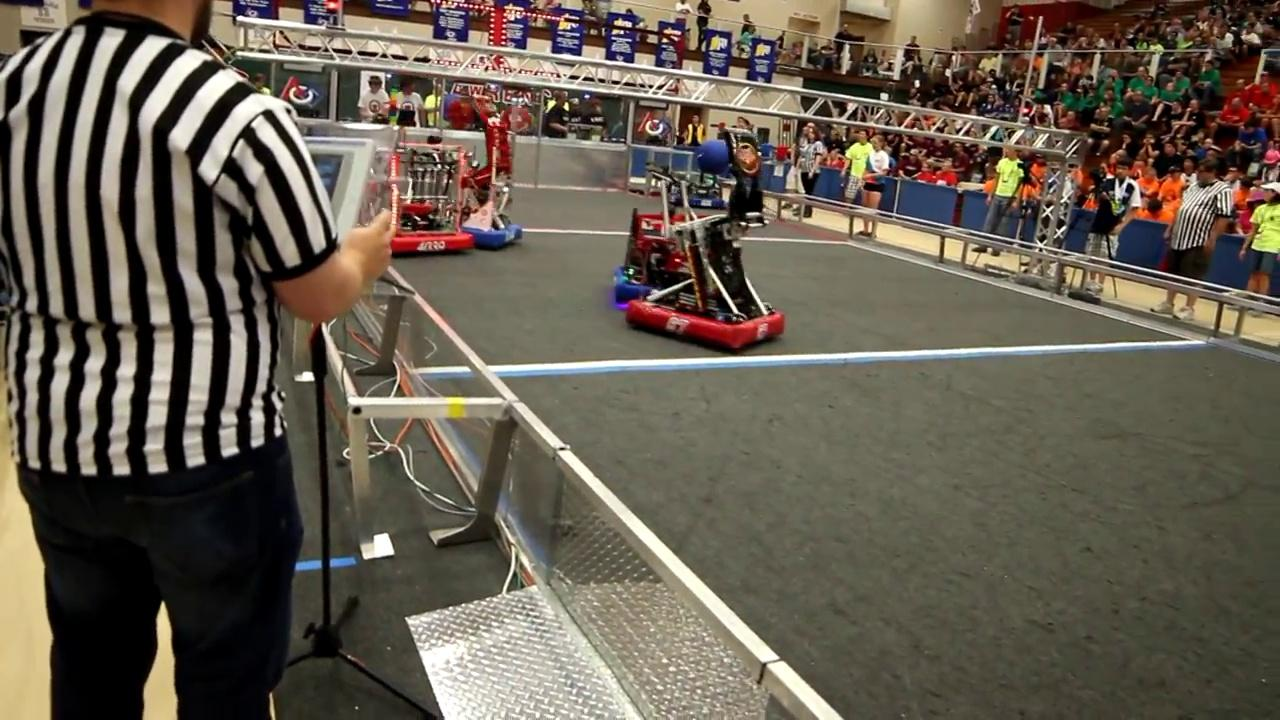robot: (623, 122, 789, 352), (360, 135, 478, 257), (442, 113, 529, 248), (666, 132, 731, 209)
